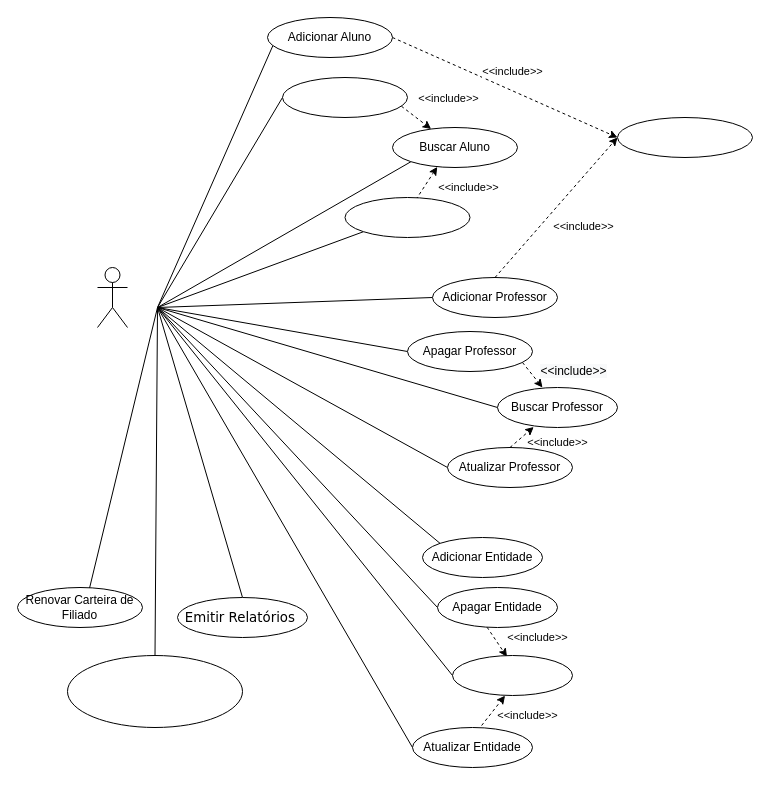
This 770x785 diagram has some shape labels left out. The shapes that lost their labels are listed below. From the top down, each one's box as (x1, y1, x2, y2) in pixels, then its label:
(282, 76, 408, 118): Apagar Aluno
(616, 116, 752, 158): Emitir Carteira de Filiado
(344, 196, 470, 238): Atualizar Aluno
(96, 266, 128, 328): Secretário
(66, 654, 242, 728): Relatório de aniversariantes do mês
(452, 654, 572, 696): Buscar Entidade
